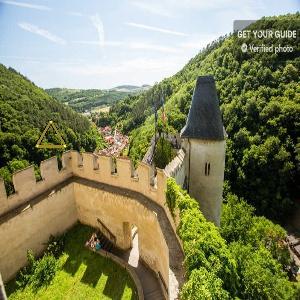triangle: (32, 118, 69, 152)
